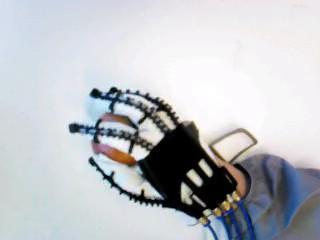apple: (91, 108, 149, 164)
hand: (67, 85, 237, 223)
